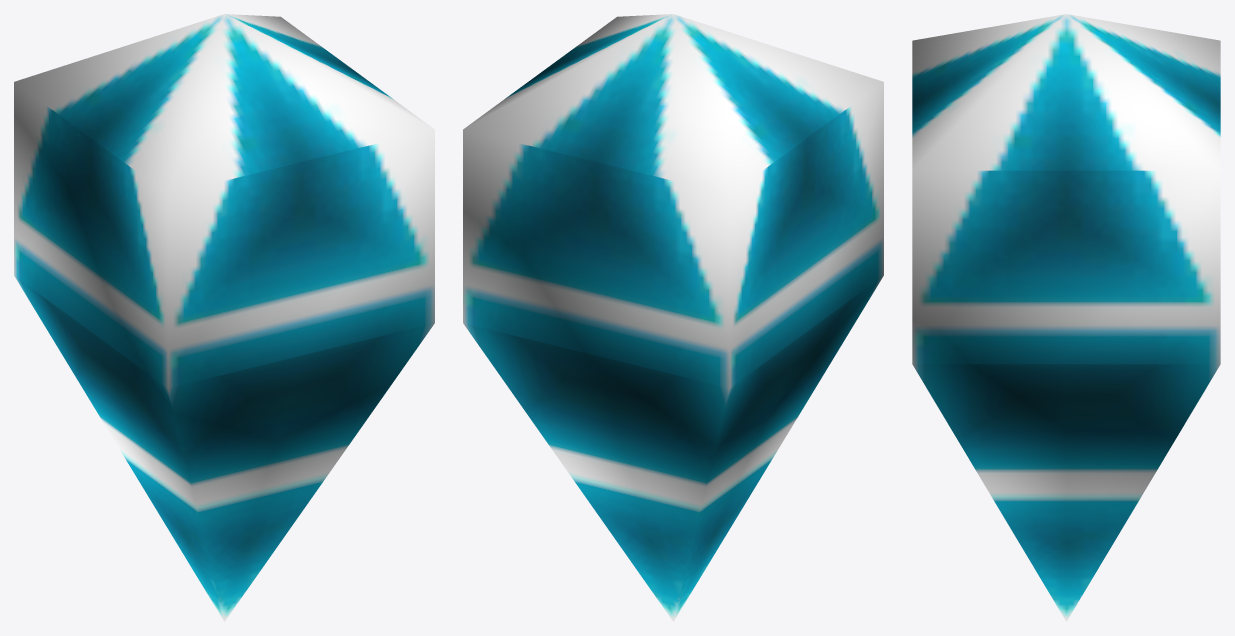
The model's file is SelectMonster.fbx.
3 renders of one model, left to right at view 1: azimuth 30°, elevation 25°; view 2: azimuth 150°, elevation 25°; view 3: azimuth 270°, elevation 25°, orthographic.
Visible parts, largest first — view 1: Cube; view 2: Cube; view 3: Cube.
Part boxes in pixels (left/top/right/bottom): Cube: left=14, top=14, right=434, bottom=621; Cube: left=463, top=14, right=883, bottom=621; Cube: left=912, top=14, right=1220, bottom=621.
Bounding box in the file's own units: 0.254 × 0.5531 × 0.254.
